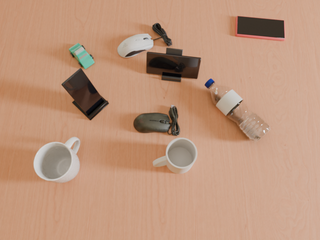bottle: (205, 79, 271, 142)
cup: (34, 137, 80, 183), (153, 138, 197, 174)
mouse: (134, 105, 180, 136), (118, 34, 153, 58)
phone: (62, 68, 104, 115), (146, 52, 201, 79), (236, 16, 285, 41)
toy_car: (69, 43, 94, 69)
